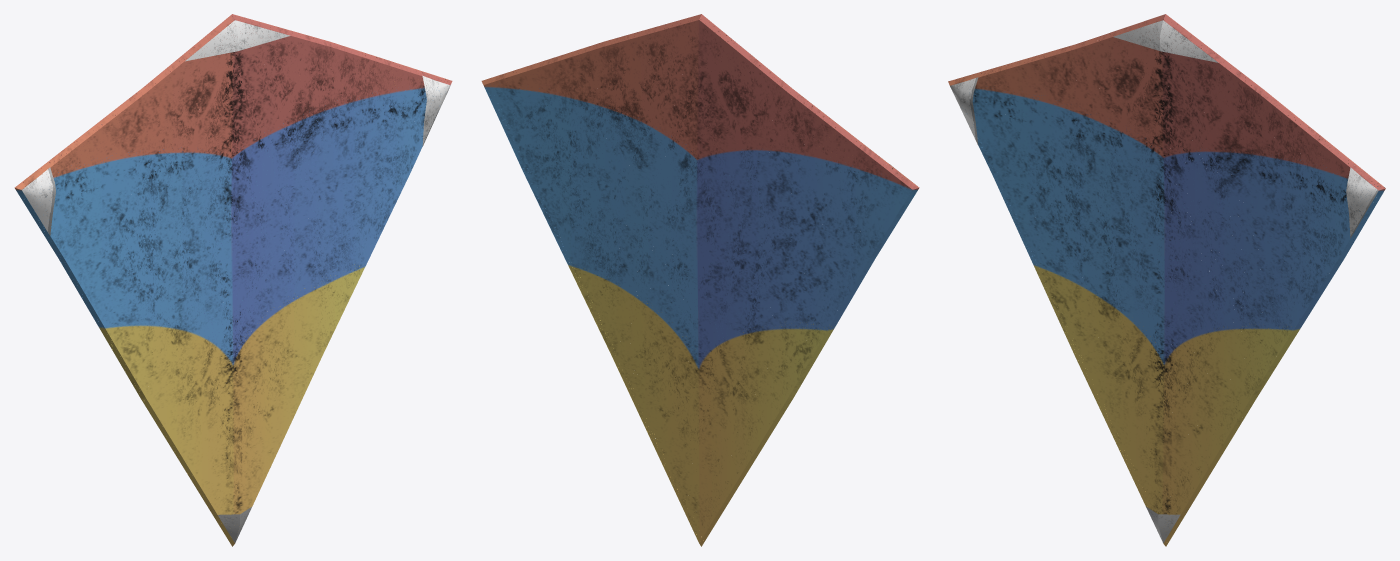
Rendered from kite.obj.
3 renders of one model, left to right at view 1: azimuth 30°, elevation 25°; view 2: azimuth 150°, elevation 25°; view 3: azimuth 330°, elevation 25°, orthographic.
Parts seen in each view (by area): view 1: top_Mesh.004, flap_top_Mesh.003, flap_left_Mesh, flap_right_Mesh.001, flap_btm_Mesh.002; view 2: top_Mesh.004; view 3: top_Mesh.004, flap_top_Mesh.003, flap_right_Mesh.001, flap_left_Mesh, flap_btm_Mesh.002.
Part boxes in pixels (bbox=[...]): top_Mesh.004: bbox=[14, 14, 452, 546]; flap_top_Mesh.003: bbox=[185, 20, 290, 61]; flap_left_Mesh: bbox=[22, 167, 55, 235]; flap_right_Mesh.001: bbox=[422, 75, 450, 146]; flap_btm_Mesh.002: bbox=[218, 507, 251, 543]; top_Mesh.004: bbox=[481, 14, 919, 546]; top_Mesh.004: bbox=[948, 14, 1385, 546]; flap_top_Mesh.003: bbox=[1113, 20, 1218, 62]; flap_right_Mesh.001: bbox=[1346, 167, 1378, 238]; flap_left_Mesh: bbox=[950, 77, 978, 145]; flap_btm_Mesh.002: bbox=[1146, 506, 1180, 543].
Size of the model in its own units: 0.6956 by 0.8088 by 0.0371.
